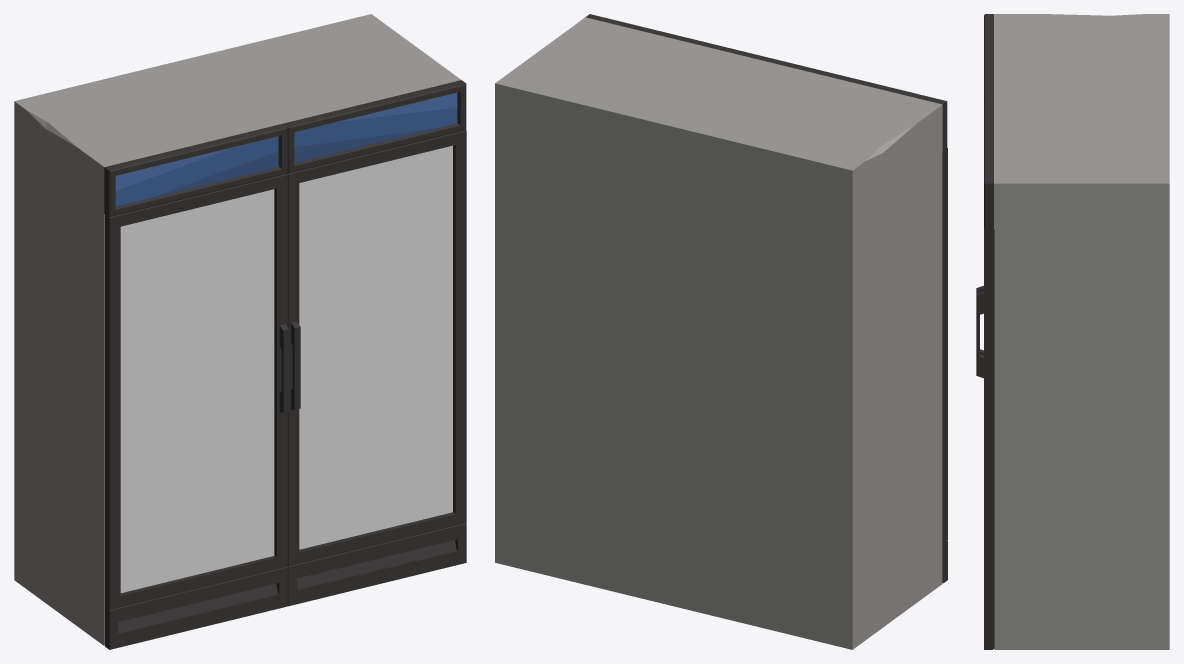
Rendered from SM_Props_Interior_SuperMarket_Fridge_Large_Preset_03.fbx.
3 views of the same model, side by side, from view 1: azimuth 30°, elevation 25°; view 2: azimuth 150°, elevation 25°; view 3: azimuth 270°, elevation 25° (orthographic). The views are drawn at different scales.
Visible parts, largest first — view 1: SM_Props_Interior_SuperMarket_Fridge_Large_Preset_03; view 2: SM_Props_Interior_SuperMarket_Fridge_Large_Preset_03; view 3: SM_Props_Interior_SuperMarket_Fridge_Large_Preset_03.
Part boxes in pixels (x1=…): SM_Props_Interior_SuperMarket_Fridge_Large_Preset_03: x1=14, y1=14, x2=466, y2=649; SM_Props_Interior_SuperMarket_Fridge_Large_Preset_03: x1=495, y1=14, x2=947, y2=649; SM_Props_Interior_SuperMarket_Fridge_Large_Preset_03: x1=976, y1=14, x2=1169, y2=649.
Bounding box in the file's own units: 160 × 205 × 77.
